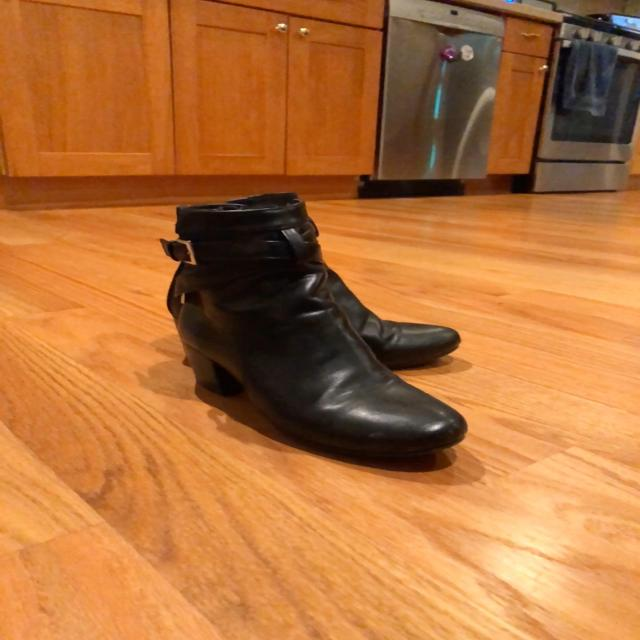shoe: (160, 192, 469, 473), (328, 275, 463, 371)
